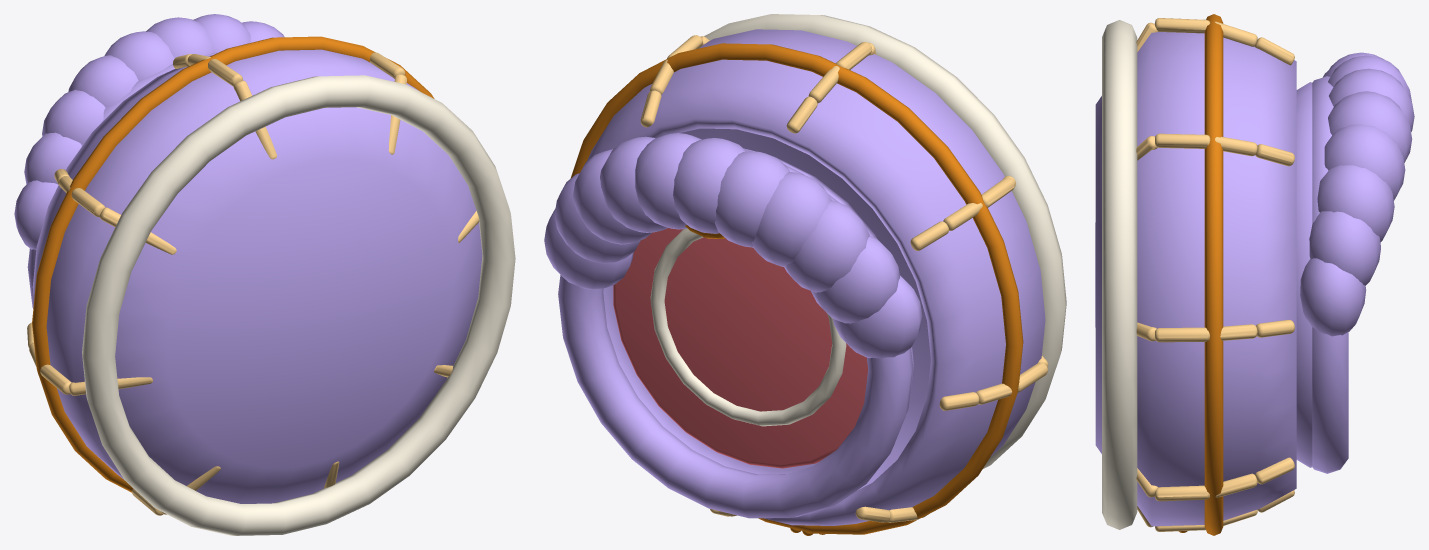
The model's file is LoftBeanBag_Premium.fbx.
The picture shows the model from 3 angles, left to right: view 1: azimuth 30°, elevation 25°; view 2: azimuth 150°, elevation 25°; view 3: azimuth 270°, elevation 25°; orthographic projection. The views are drawn at different scales.
Visible parts, largest first — view 1: LoftBeanBag; view 2: LoftBeanBag; view 3: LoftBeanBag.
Part boxes in pixels (x1,y1,x2,y2): LoftBeanBag: (14, 14, 515, 535); LoftBeanBag: (544, 14, 1066, 535); LoftBeanBag: (1095, 14, 1414, 535).
Bounding box in the file's own units: 0.888 × 0.9131 × 0.541.
